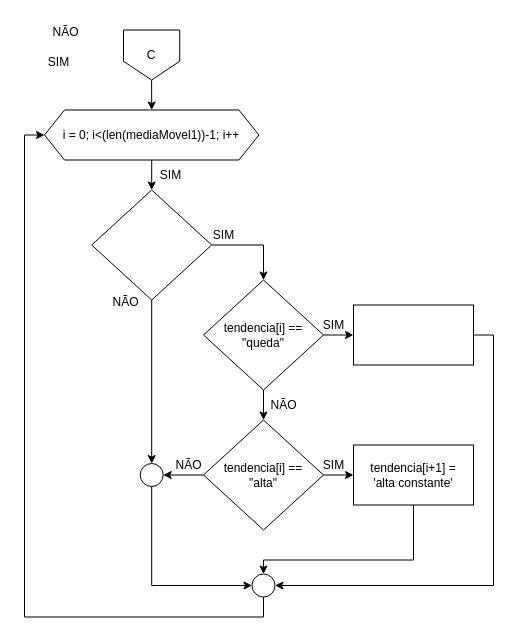
This 519x642 diagram has some shape labels left out. Each missing label, with the centre of its shape:
"tendencia[i+1] = 'queda constante'" goes at pixel 413 334.
"tendencia[i] == tendencia[i+1]" goes at pixel 151 244.
